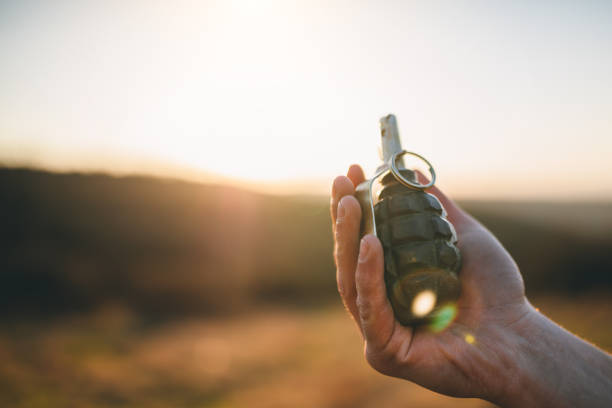e1: (358, 114, 461, 324)
